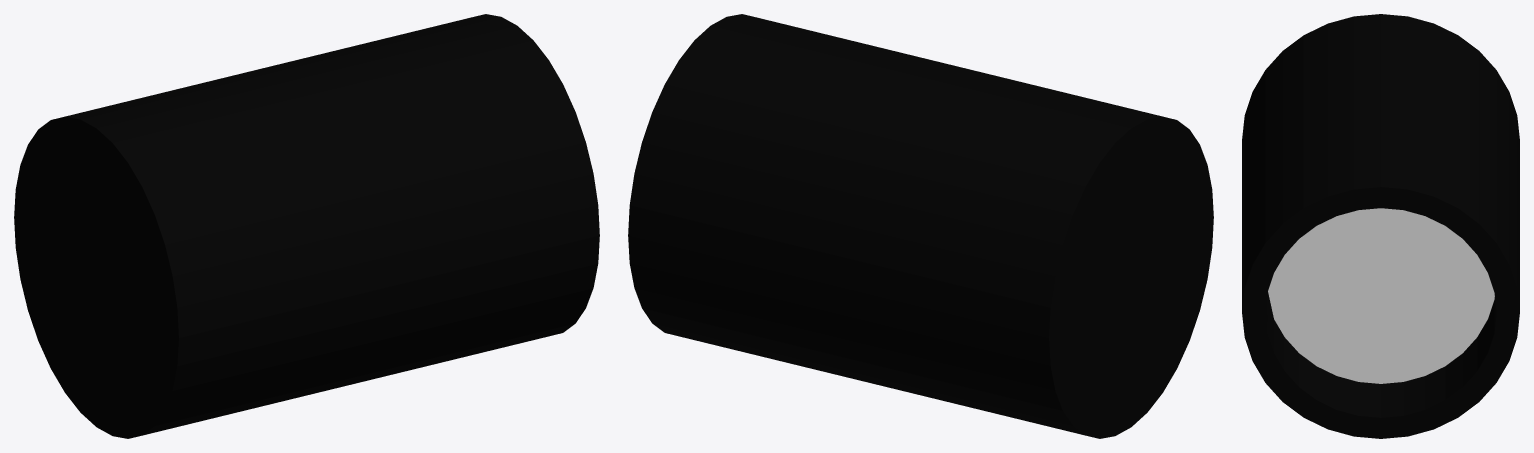
File: Spotlight.fbx
The picture shows the model from 3 angles, left to right: view 1: azimuth 30°, elevation 25°; view 2: azimuth 150°, elevation 25°; view 3: azimuth 270°, elevation 25°; orthographic projection. The views are drawn at different scales.
Parts seen in each view (by area): view 1: Cylinder; view 2: Cylinder; view 3: Cylinder.
Boxes of the visible parts, bbox=[...] form: Cylinder: bbox=[14, 14, 599, 438]; Cylinder: bbox=[628, 14, 1213, 438]; Cylinder: bbox=[1242, 14, 1519, 438].
Size of the model in its own units: 295 by 200 by 200.
1 material, 1 textured.
